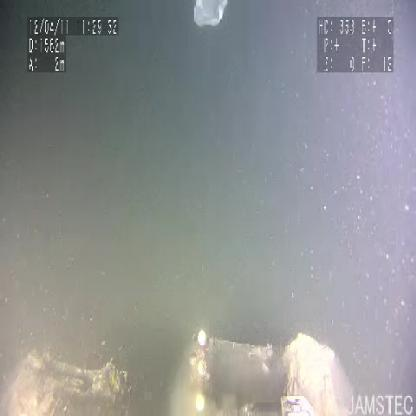Rác: (192, 0, 231, 34)
